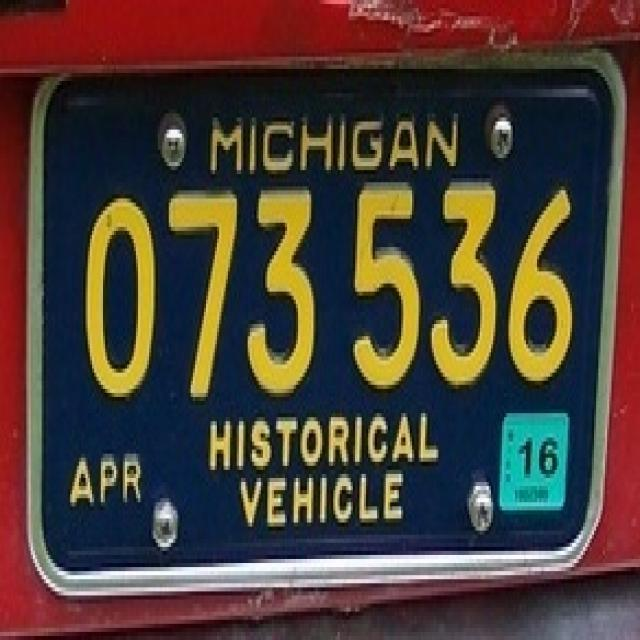licenseplate: (26, 54, 626, 600)
